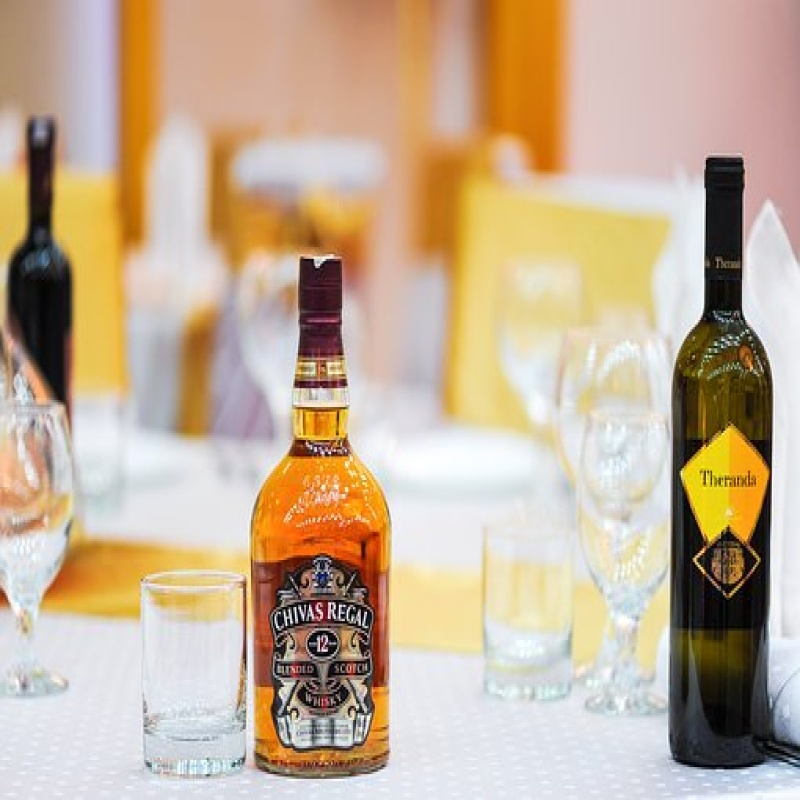wine: (248, 254, 395, 771), (676, 155, 773, 761)
